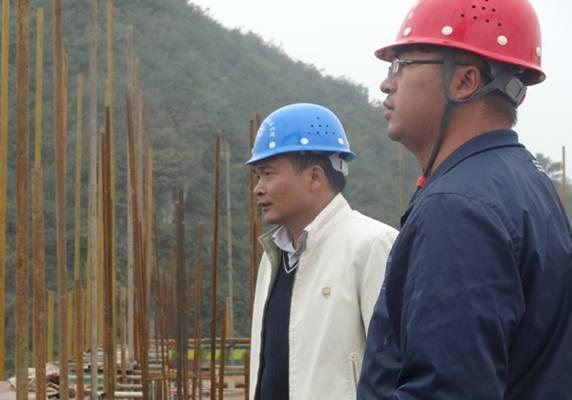helmet: (372, 2, 563, 84), (250, 102, 353, 165)
no-vest: (373, 114, 564, 394), (248, 203, 379, 400)
person: (363, 0, 562, 400), (247, 95, 400, 400)
